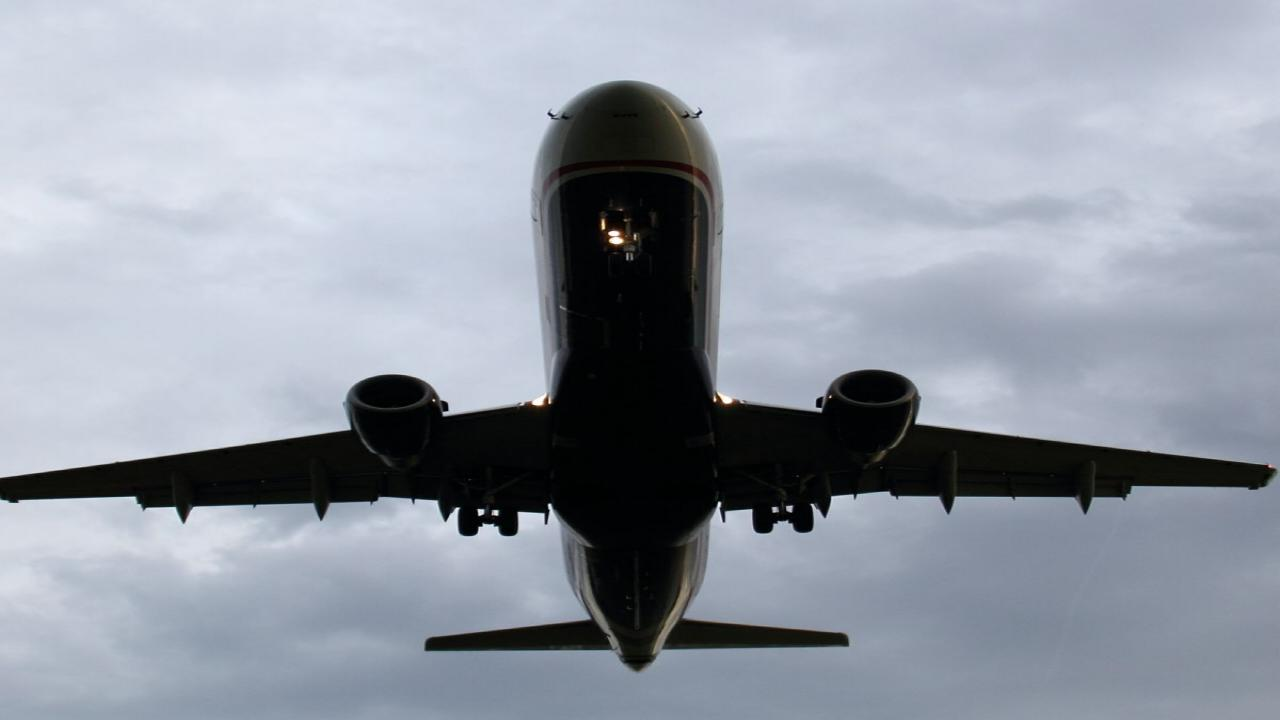Airplane: (0, 65, 1280, 684)
